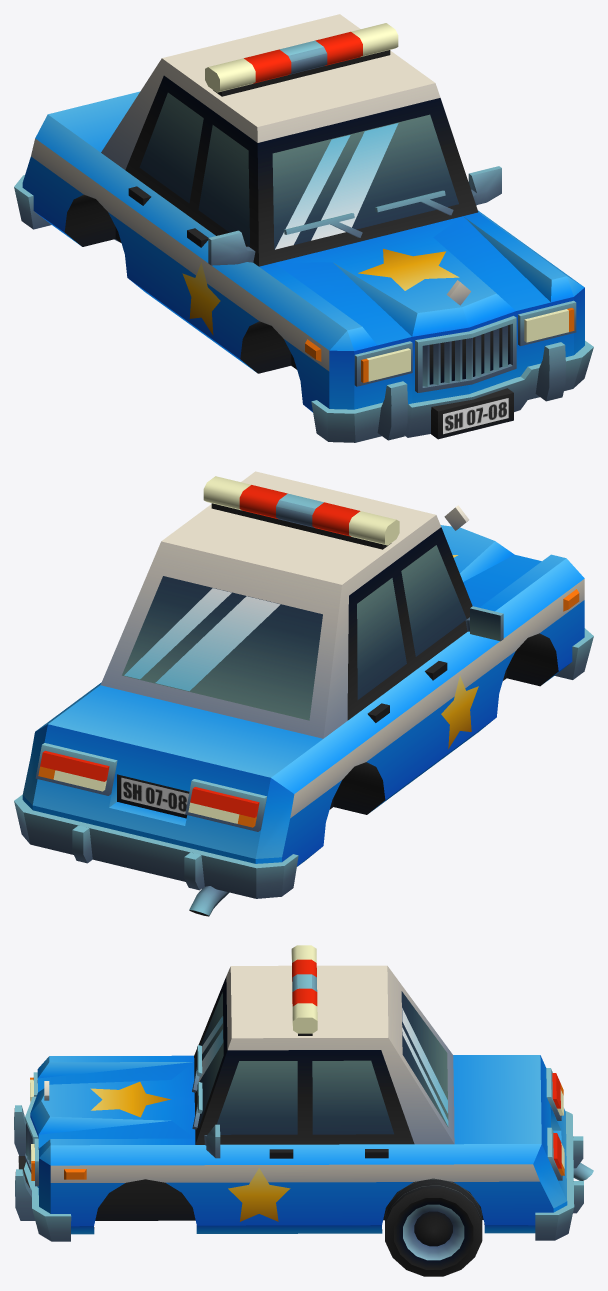
The model's file is lowPolyCar2.fbx.
3 renders of one model, top to bottom at view 1: azimuth 30°, elevation 25°; view 2: azimuth 150°, elevation 25°; view 3: azimuth 270°, elevation 25°, orthographic. The views are drawn at different scales.
Visible parts, largest first — view 1: carBody.002; view 2: carBody.002; view 3: carBody.002, wheel.001.
Boxes of the visible parts, bbox=[...] form: carBody.002: bbox=[14, 14, 593, 442]; carBody.002: bbox=[14, 471, 593, 916]; carBody.002: bbox=[14, 945, 593, 1241]; wheel.001: bbox=[385, 1178, 482, 1276].
Bounding box in the file's own units: 1.72 × 1.63 × 3.58.
